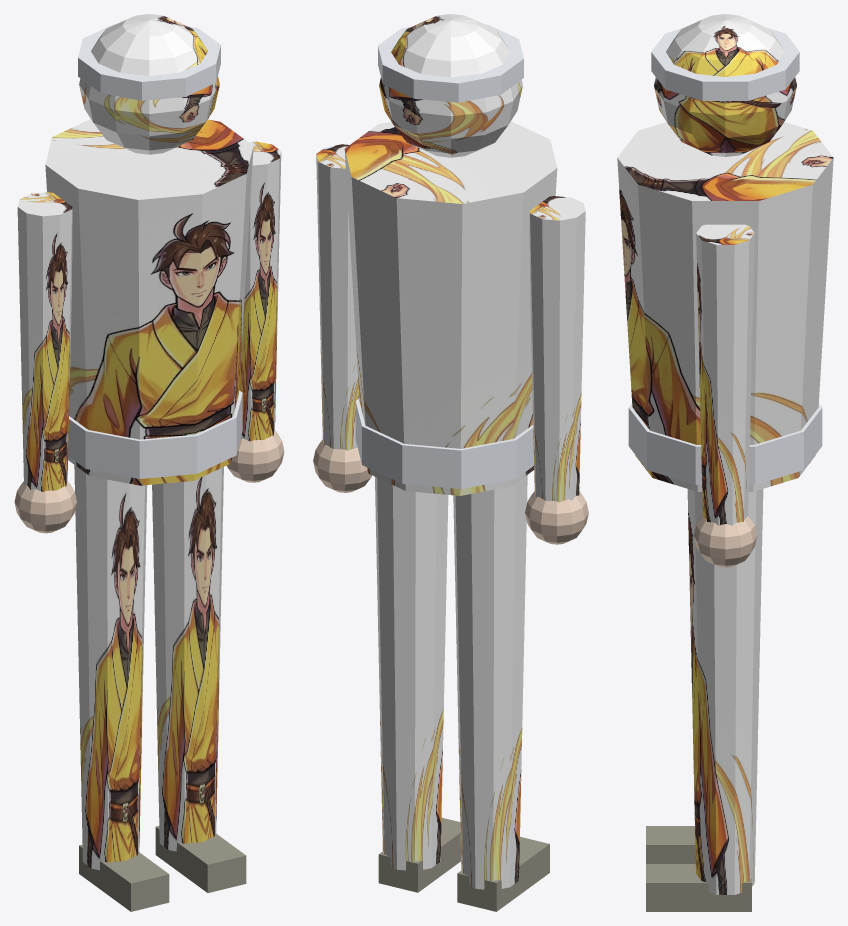
The picture shows the model from 3 angles, left to right: view 1: azimuth 30°, elevation 25°; view 2: azimuth 150°, elevation 25°; view 3: azimuth 270°, elevation 25°; orthographic projection. The views are drawn at different scales.
Parts seen in each view (by area): view 1: torso, thighR, thighL, armR, head, armL, belt, band, footL, footR, handR, handL; view 2: torso, thighR, thighL, armR, head, armL, belt, band, footR, footL, handR, handL; view 3: torso, thighL, armL, head, belt, band, footL, handL, footR.
Boxes of the visible parts, box(x1,y1,x2,y2) form: torso: box(45, 119, 253, 485); thighR: box(74, 465, 147, 870); thighL: box(152, 467, 223, 851); armR: box(17, 192, 72, 492); head: box(79, 14, 219, 154); armL: box(239, 141, 281, 441); belt: box(68, 390, 242, 478); band: box(78, 24, 220, 100); footL: box(155, 826, 246, 892); footR: box(79, 844, 169, 911); handR: box(14, 481, 76, 533); handL: box(226, 430, 284, 482); torso: box(344, 121, 557, 495); thighR: box(453, 475, 527, 889); thighL: box(375, 477, 448, 870); armR: box(529, 196, 585, 502); head: box(379, 14, 522, 157); armL: box(316, 144, 359, 450); belt: box(355, 398, 533, 488); band: box(378, 24, 523, 102); footR: box(457, 836, 549, 911); footL: box(378, 817, 460, 892); handR: box(525, 491, 588, 544); handL: box(313, 439, 372, 492); torso: box(617, 122, 833, 491); thighL: box(687, 489, 763, 894); armL: box(696, 224, 754, 525); head: box(654, 14, 796, 156); belt: box(628, 403, 822, 484); band: box(651, 28, 799, 100); footL: box(646, 864, 751, 911); handL: box(693, 515, 757, 567); footR: box(646, 826, 695, 863).
Bounding box in the file's own units: 0.579 × 1.79 × 0.408.
4 materials, 1 textured.
